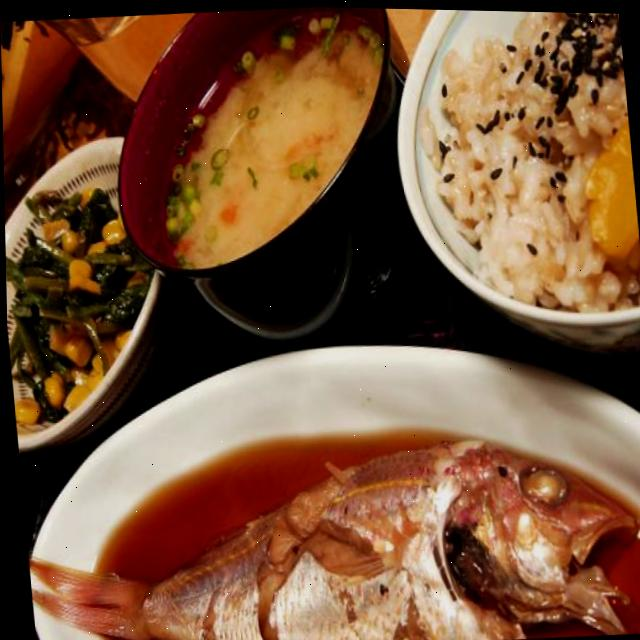熟制海鲜: (13, 376, 640, 640)
